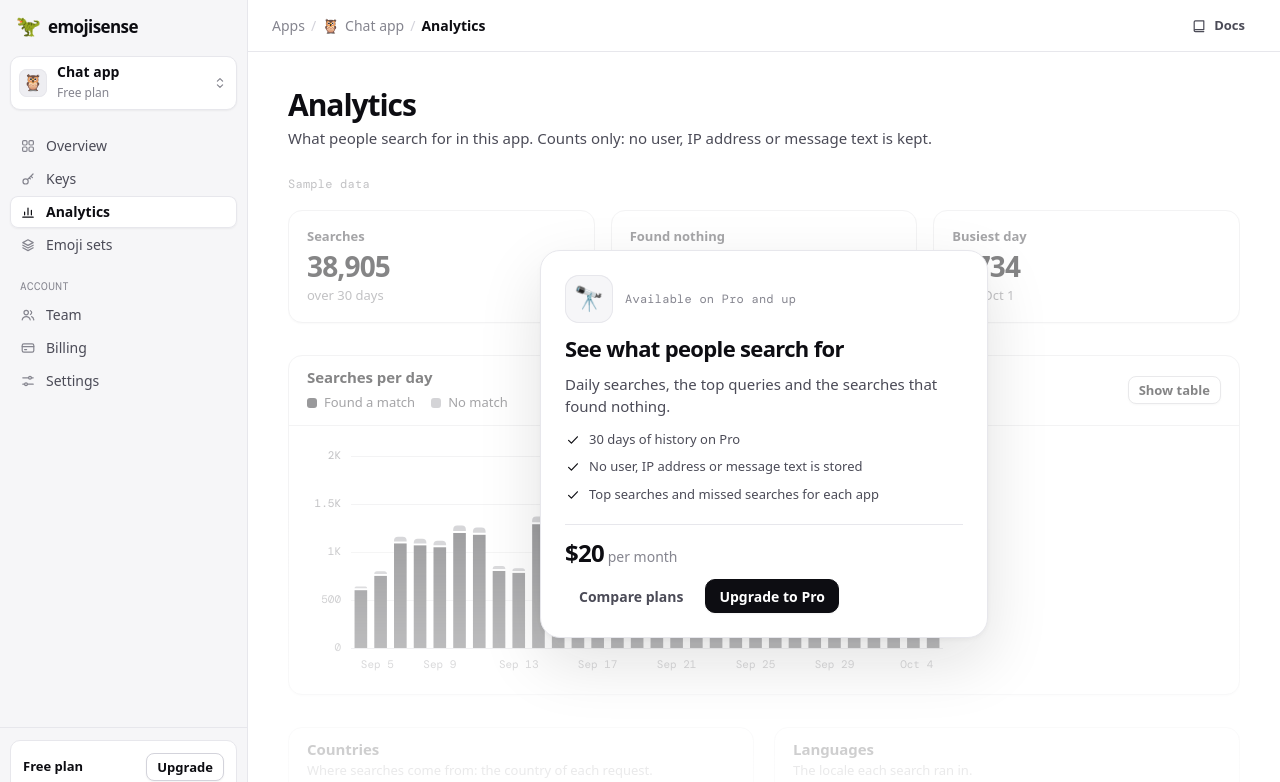
Test: plan gates › shows a calm upsell that names the plan from the 402; Upgrade opens Billing with it
The image size is (1280, 782).
Expected: the text "Available on Pro and up" is shown, [625,292,796,304]
Expected: the text "$20" is shown, [565,536,604,569]
Click the link "Upgrade to Pro": (772, 596) [705,579,839,613]
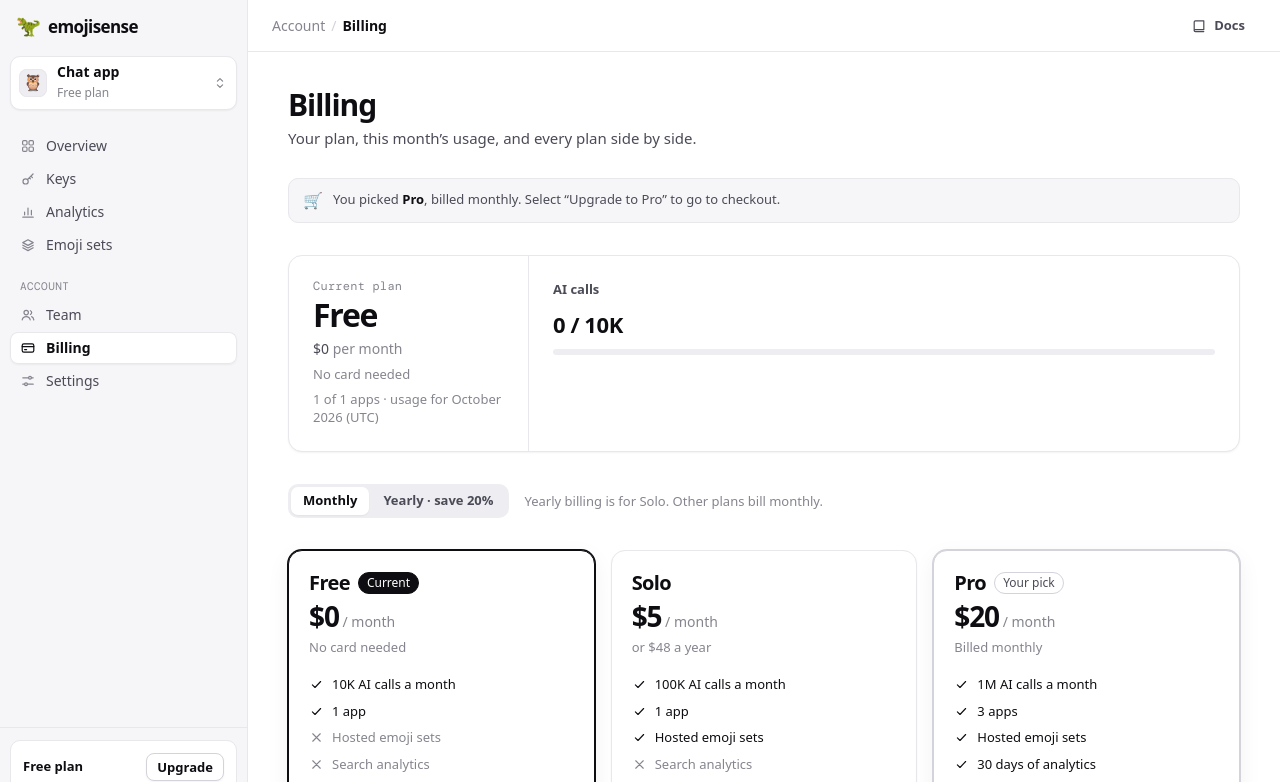
Result: the heading "Billing" is shown at [288,84,376,125]
Result: the text "You picked" shows "Pro" at [402,190,424,208]
